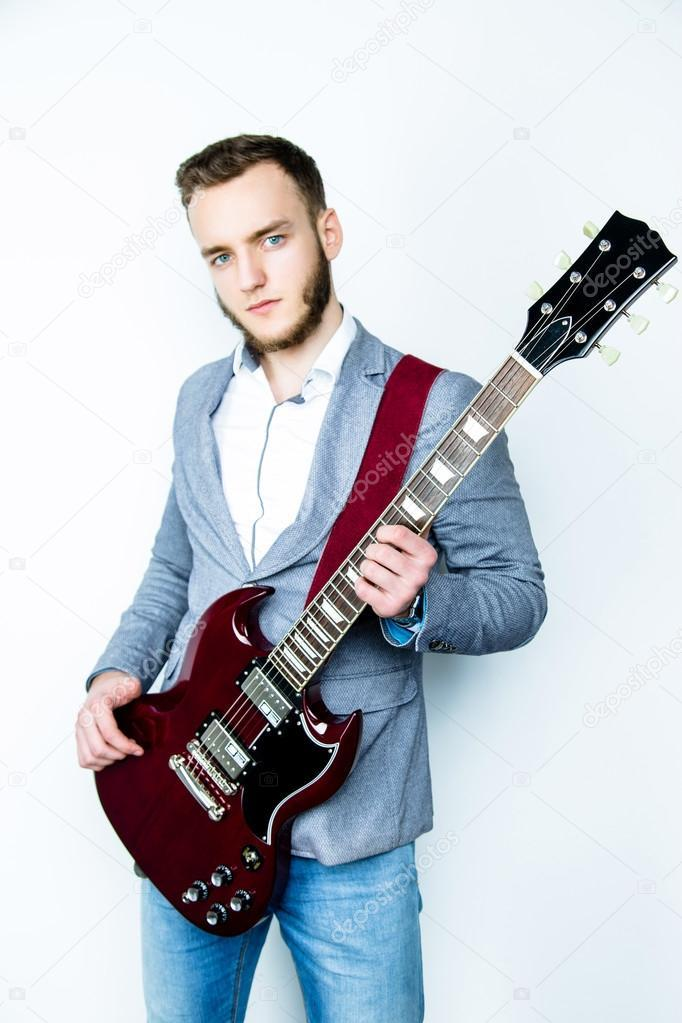acousticguitar: (93, 209, 674, 940)
